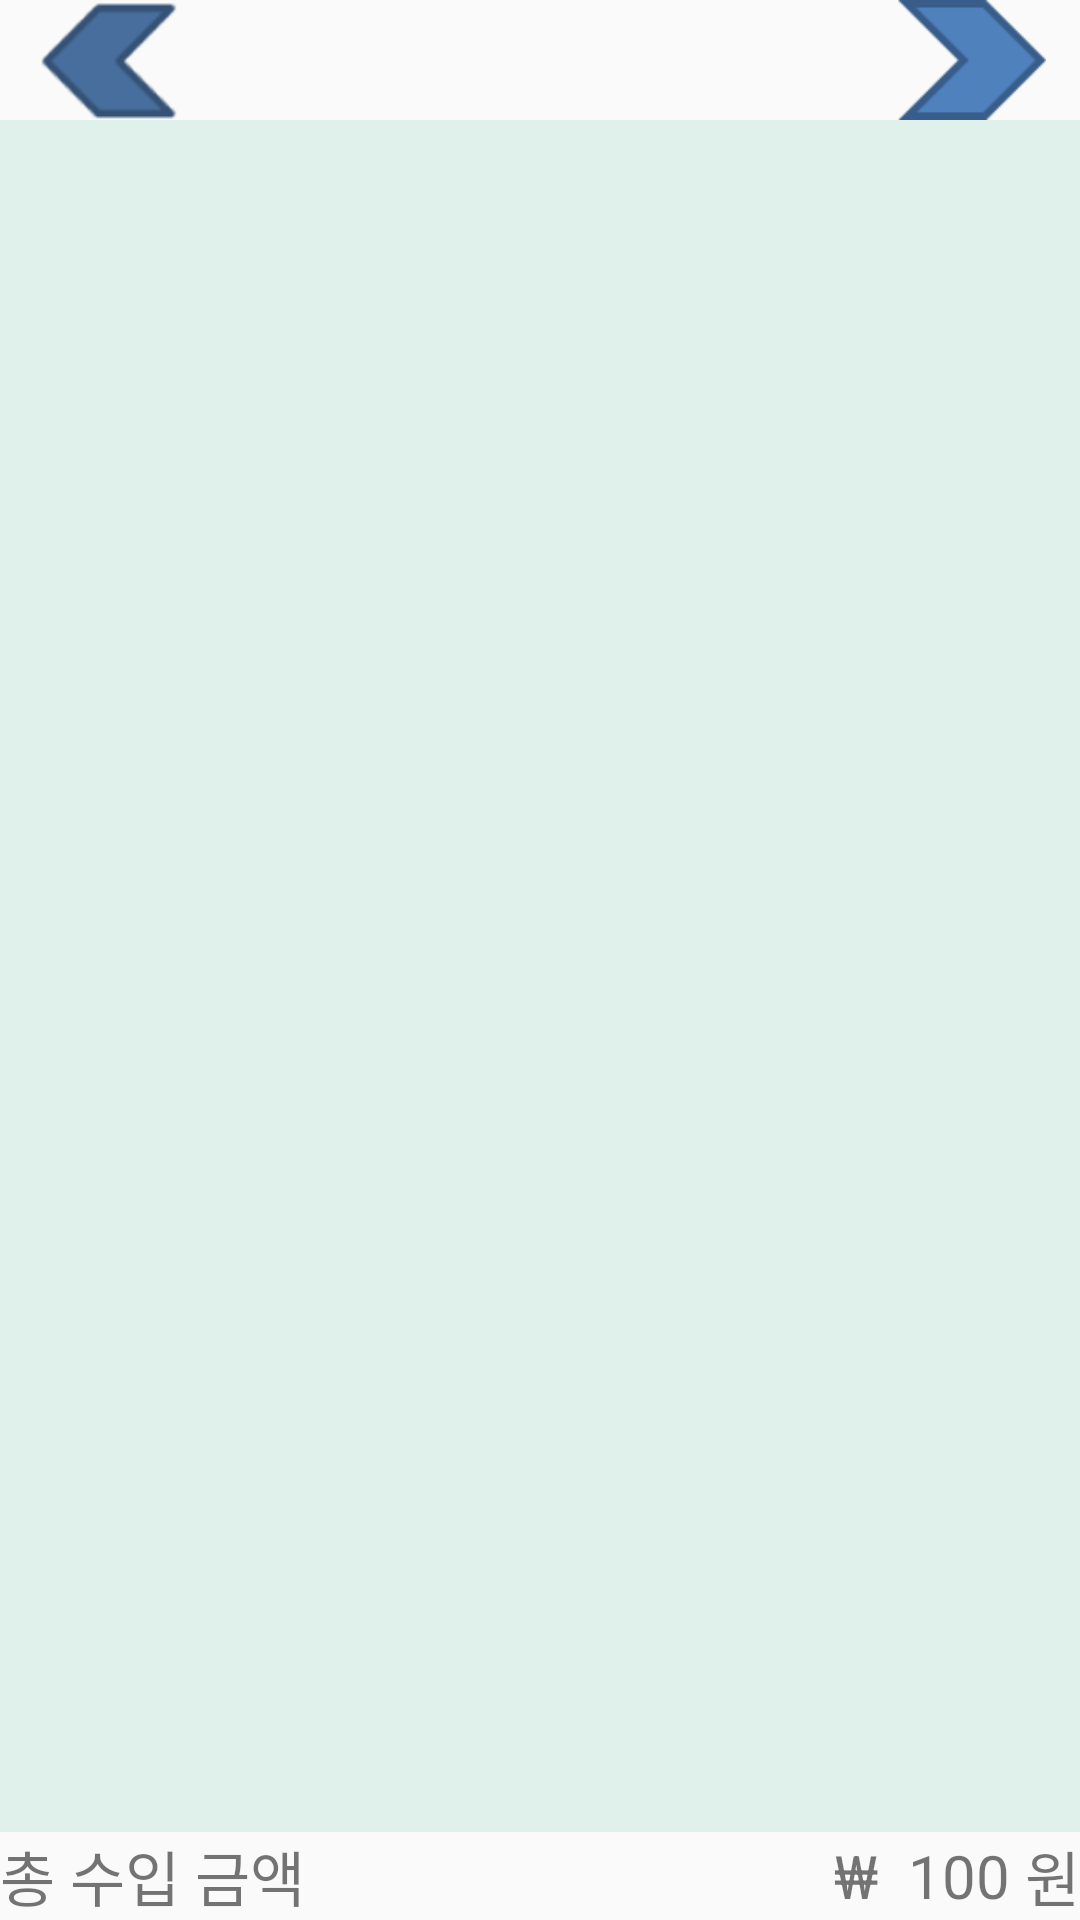

Icon click points for this 1080x1920 phone screenshot, format point (x, y):
left: point (108, 61)
right: point (972, 60)
